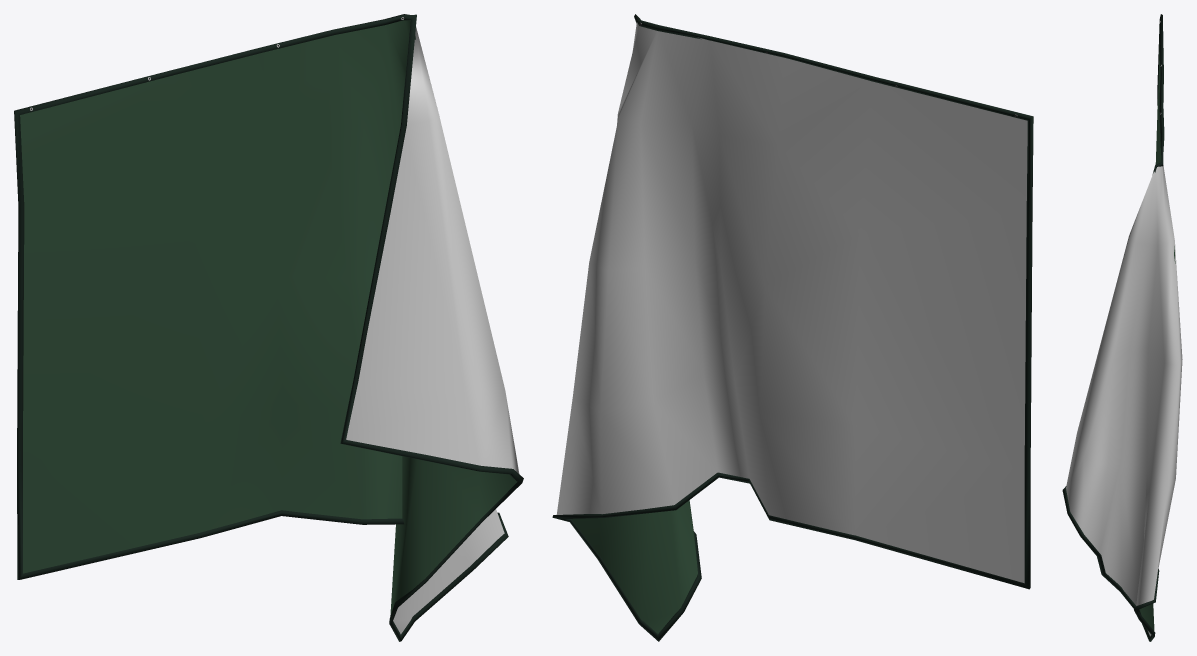
Rendered from SM_H_Tide_Dock_Fabric_01a_ATLAS.fbx.
The picture shows the model from 3 angles, left to right: view 1: azimuth 30°, elevation 25°; view 2: azimuth 150°, elevation 25°; view 3: azimuth 270°, elevation 25°; orthographic projection. The views are drawn at different scales.
Parts seen in each view (by area): view 1: SM_H_Tide_Dock_Fabric_01a_ATLAS; view 2: SM_H_Tide_Dock_Fabric_01a_ATLAS; view 3: SM_H_Tide_Dock_Fabric_01a_ATLAS.
Part boxes in pixels (<box>): SM_H_Tide_Dock_Fabric_01a_ATLAS: <box>14,14,523,641</box>; SM_H_Tide_Dock_Fabric_01a_ATLAS: <box>552,14,1033,641</box>; SM_H_Tide_Dock_Fabric_01a_ATLAS: <box>1062,14,1182,641</box>.
Bounding box in the file's own units: 309 × 85.34 × 381.
